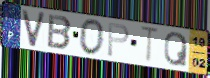B: (47, 13, 74, 51)
O: (78, 18, 106, 57)
P: (107, 22, 131, 59)
Q: (163, 31, 189, 68)
T: (139, 25, 161, 66)
V: (21, 9, 47, 49)
